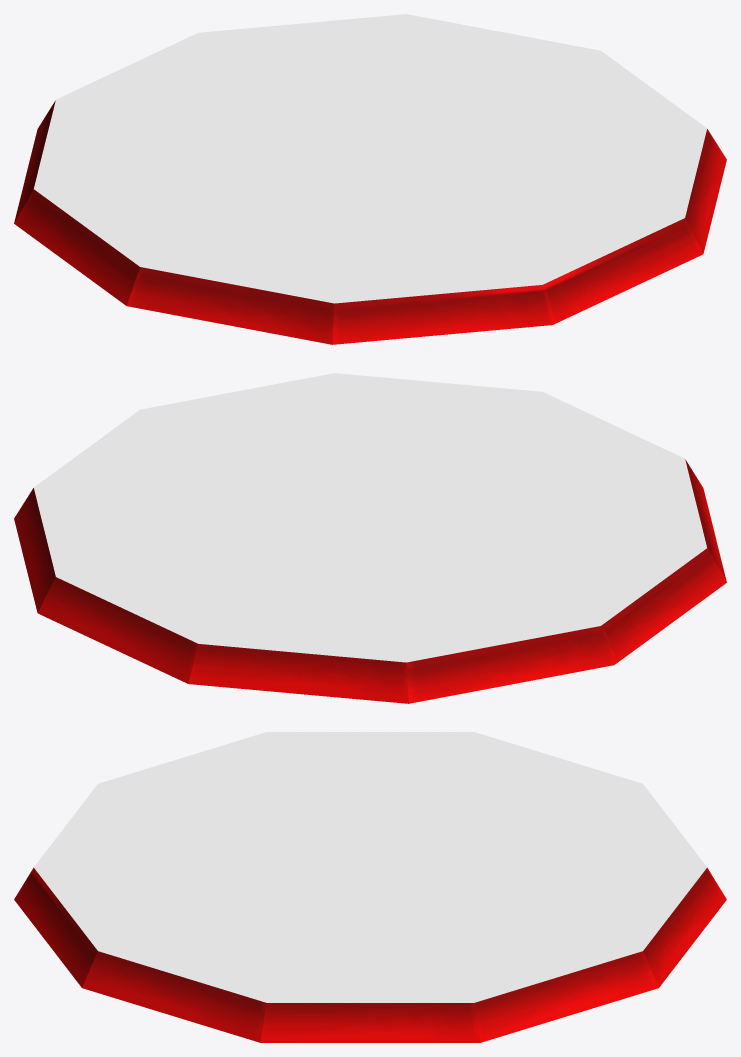
Rendered from turret_big_canon_bot.obj.
3 views of the same model, one above another, from view 1: azimuth 30°, elevation 25°; view 2: azimuth 150°, elevation 25°; view 3: azimuth 270°, elevation 25° (orthographic). The views are drawn at different scales.
Visible parts, largest first — view 1: Cube.001; view 2: Cube.001; view 3: Cube.001.
Boxes of the visible parts, left/top/right/bottom form: Cube.001: left=14, top=14, right=726, bottom=344; Cube.001: left=14, top=373, right=726, bottom=703; Cube.001: left=14, top=732, right=726, bottom=1042.
Size of the model in its own units: 13.24 by 0.6923 by 13.92.
Materials: 1 (1 with a texture image).
